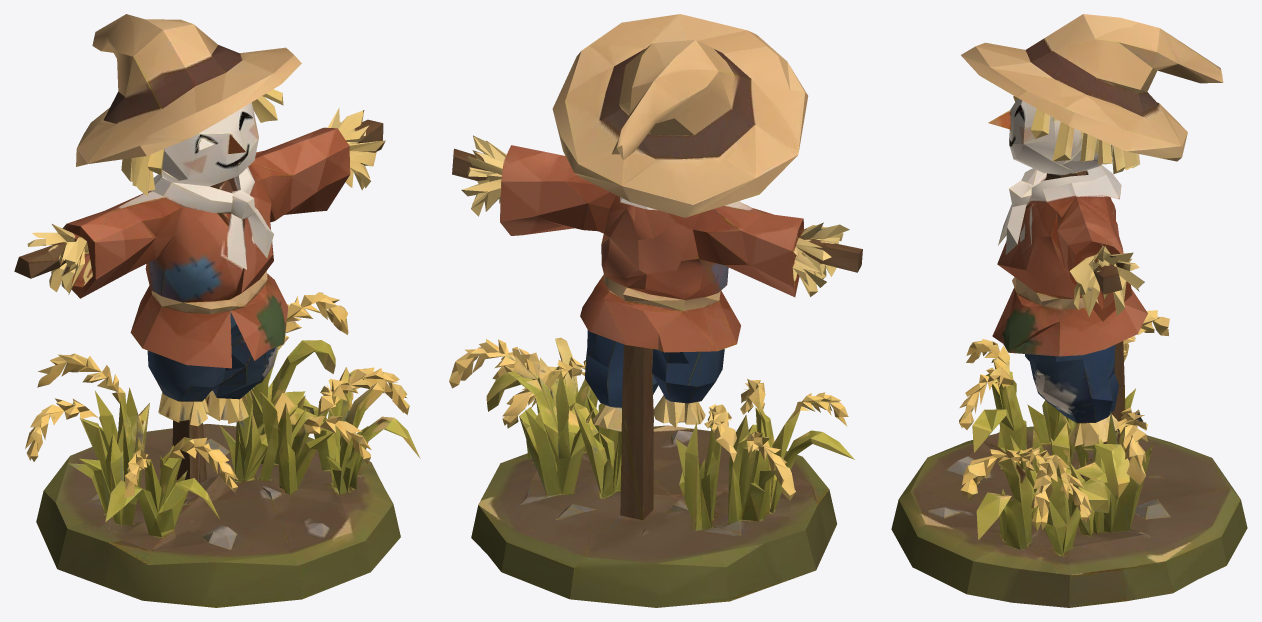
Rendered from scarecrow.glb.
The picture shows the model from 3 angles, left to right: view 1: azimuth 30°, elevation 25°; view 2: azimuth 150°, elevation 25°; view 3: azimuth 270°, elevation 25°; orthographic projection. The views are drawn at different scales.
Bounding box in the file's own units: 1.51 × 1.9 × 1.24.
Materials: 1 (1 with a texture image).
